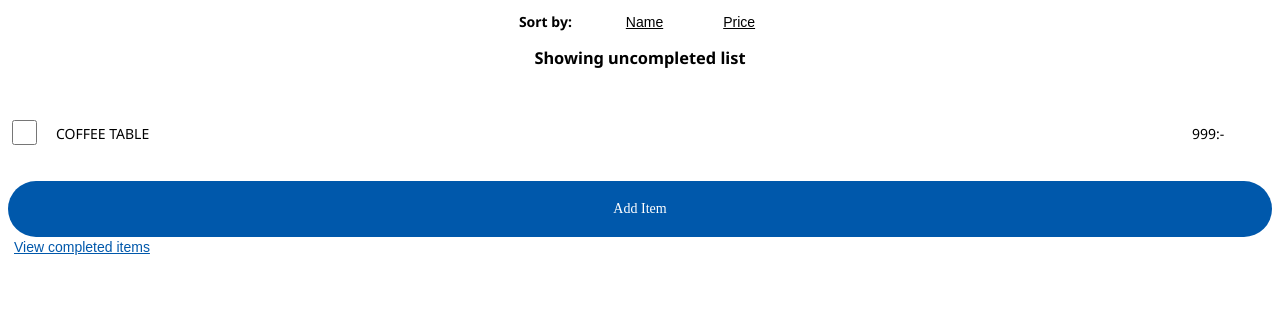
Test case: Should toggle acquired list
The image size is (1280, 319).
Click the button "View completed items": (82, 270) [8, 238, 156, 303]
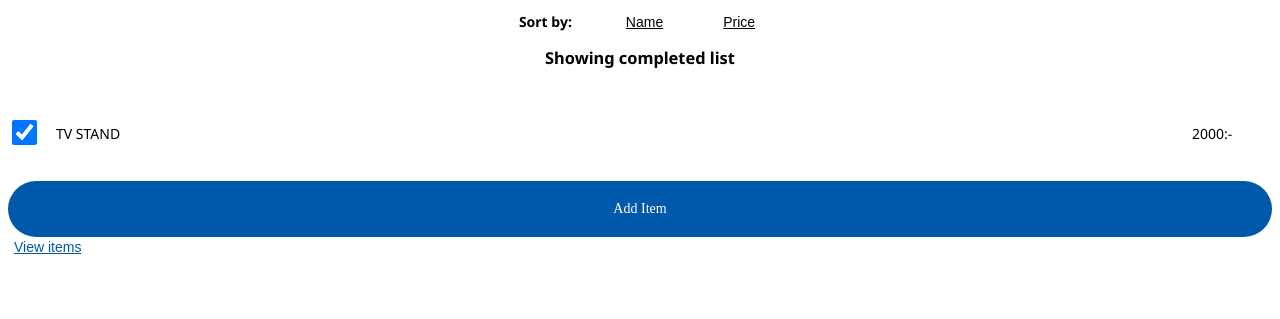
Check: the text "TV STAND" is shown, box [56, 124, 120, 143]
